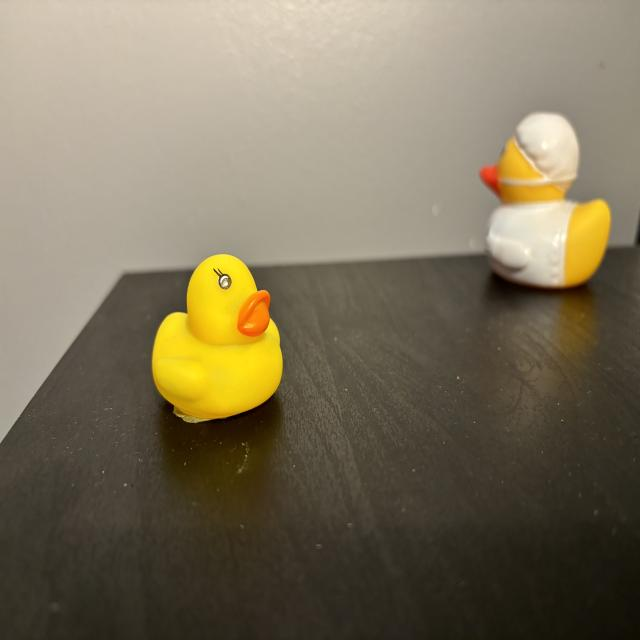duck_regular: (154, 253, 285, 423)
duck_specialty: (483, 113, 612, 290)
